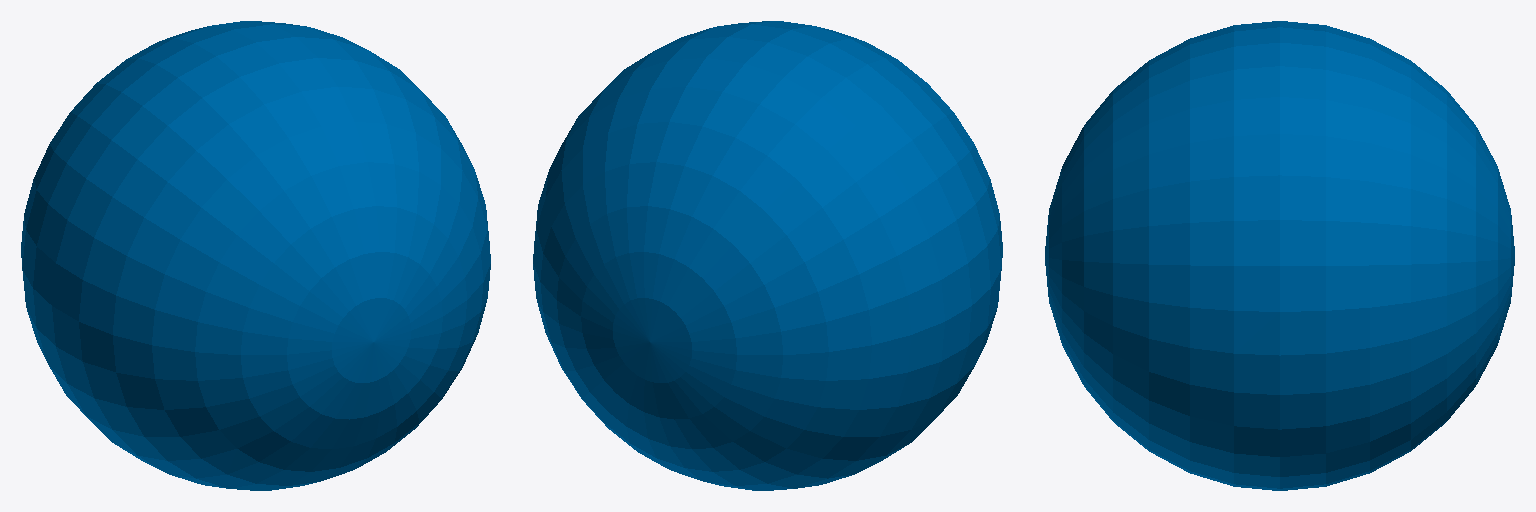
URDF robot description (ur10):
<?xml version="1.0" encoding="utf-8"?>
<robot name="ur10">
	<material name="silver">
		<color rgba="0.73 0.7764 0.7882 1"/>
	</material>
	<material name="black">
		<color rgba="0 0 0 1"/>
	</material>
    <link name="base_link">
        <collision>
            <origin xyz="0 0 0.02" rpy="0 0 0"/>
            <geometry>
                <cylinder radius="0.075" length="0.03"/>
            </geometry>
        </collision>
        <visual>
            <origin xyz="0 0 0" rpy="0 0 0"/>
            <geometry>
                <mesh filename="../meshes/ur10_base.obj" scale="1 1 1"/>
            </geometry>
        </visual>
        <inertial>
            <mass value="200.0"/>
        </inertial>
    </link>
    <link name="shoulder_link">
        <visual>
            <origin xyz="0 0 -.1273" rpy="0 0 0"/>
            <geometry>
                <mesh filename="../meshes/ur10_shoulder.obj" scale="1 1 1"/>
            </geometry>
        </visual>
        <collision>
            <origin xyz="0 0.0 0.0027000046)" rpy="0 0 0"/>
            <geometry>
                <cylinder radius="0.075" length="0.17"/>
            </geometry>
        </collision>
        <collision>
            <origin xyz="0 .0425  0.007000065" rpy="1.57079632679 0 0"/>
            <geometry>
                <cylinder radius="0.075" length="0.085"/>
            </geometry>
        </collision>
        <inertial>
            <mass value="7.1"/>
        </inertial>
    </link>
    <link name="upper_arm_link">
        <visual>
            <origin xyz="-0.0007000065 -0.044941006 0" rpy="0 -1.57079632679 0"/>
            <geometry>
                <mesh filename="../meshes/ur10_upper_arm.obj" scale="1 1 1"/>
            </geometry>
        </visual>
        <collision>
            <origin xyz="-0.0007000065 -0.044941006 0" rpy="1.57079632679 0 0"/>
            <geometry>
                <cylinder radius="0.075" length="0.175"/>
            </geometry>
        </collision>
        <collision>
            <origin xyz="-0.0007000065 -0.044941006 0.306" rpy="0 0 0"/>
            <geometry>
                <cylinder radius="0.06" length="0.612"/>
            </geometry>
        </collision>
        <collision>
            <origin xyz="-0.0007000065 -0.044941006 0.612" rpy="1.57079632679 0 0"/>
            <geometry>
                <cylinder radius="0.06" length="0.136"/>
            </geometry>
        </collision>
        <inertial>
            <mass value="12.7"/>
        </inertial>
    </link>
    <link name="forearm_link">
        <visual>
            <origin xyz="-0.0007000351 -0.0010410404 0" rpy="0 -1.57079632679 0"/>
            <geometry>
                <mesh filename="../meshes/ur10_forearm.obj" scale="1 1 1"/>
            </geometry>
        </visual>
        <collision>
            <origin xyz="-0.0007000351 -0.0041510403 0" rpy="1.57079632679 0 0"/>
            <geometry>
                <cylinder radius="0.06" length="0.126"/>
            </geometry>
        </collision>
        <collision>
            <origin xyz="-0.0007000351 -0.0010410404 0.286" rpy="0 0 0"/>
            <geometry>
                <cylinder radius="0.047" length="0.572"/>
            </geometry>
        </collision>
        <collision>
            <origin xyz="-0.0007000547 0.0017589596 0.572" rpy="1.57079632679 0 0"/>
            <geometry>
                <cylinder radius="0.047" length="0.118"/>
            </geometry>
        </collision>
        <inertial>
            <mass value="4.27"/>
        </inertial>
    </link>
    <link name="wrist_1_link">
        <visual>
            <origin xyz="0.0002999115 0.11495896 -0.0007000637" rpy="-3.14159265359 0 -3.14159265359"/>
            <geometry>
                <mesh filename="../meshes/ur10_wrist_1.obj" scale="1 1 1"/>
            </geometry>
        </visual>
        <collision>
            <origin xyz="0.0002999115 0.08745896 -0.0007000637" rpy="1.57079632679 0 3.14159265359"/>
            <geometry>
                <cylinder radius="0.047" length="0.055"/>
            </geometry>
        </collision>
        <collision>
            <origin xyz="0.0002999115 0.11495896 0.0020999363" rpy="-3.14159265359 0 -3.14159265359"/>
            <geometry>
                <cylinder radius="0.047" length="0.118"/>
            </geometry>
        </collision>
        <inertial>
            <mass value="1.0"/>
        </inertial>
    </link>
    <link name="wrist_2_link">
        <visual>
            <origin xyz="0.0002999115 0.000058994293 0.11529993" rpy="-3.14159265359 0 -3.14159265359"/>
            <geometry>
                <mesh filename="../meshes/ur10_wrist_2.obj" scale="1 1 1"/>
            </geometry>
        </visual>
        <collision>
            <origin xyz="0.0002999115 0.000058994293 0.08829992" rpy="-3.14159265359 0 -3.14159265359"/>
            <geometry>
                <cylinder radius="0.047" length="0.054"/>
            </geometry>
        </collision>
        <collision>
            <origin xyz="0.0002999115 0.0028589943 0.11529993" rpy="1.57079632679 0 3.14159265359"/>
            <geometry>
                <cylinder radius="0.047" length="0.118"/>
            </geometry>
        </collision>
        <inertial>
            <mass value="1.0"/>
        </inertial>
    </link>
    <link name="wrist_3_link">
        <visual>
            <origin xyz="0.0002999115 0.09205898 -0.00040007472" rpy="-3.14159265359 0 -3.14159265359"/>
            <geometry>
                <mesh filename="../meshes/ur10_wrist_3.obj" scale="1 1 1"/>
            </geometry>
        </visual>
        <collision>
            <origin xyz="0.0002999115 0.077058983 -0.00040007472" rpy="1.57079632679 0 -3.14159265359"/>
            <geometry>
                <cylinder radius="0.047" length="0.03"/>
            </geometry>
        </collision>
        <inertial>
            <mass value="0.365"/>
        </inertial>
    </link>
    <joint name="shoulder_pan_joint" type="revolute">
        <origin rpy="0 0 0" xyz="0 0 0.1273"/>
        <axis xyz="0 0 1" />
        <limit upper="6.28318" lower="-6.28318" velocity="2.0944" effort="330" />
        <parent link="base_link" />
        <child link ="shoulder_link" />
    </joint>
    <joint name="shoulder_lift_joint" type="revolute">
        <origin rpy="0.0 1.5707963267948966 0.0" xyz="0.0 0.220941 0.0"/>
        <axis xyz="0 1 0" />
        <limit upper="6.28318" lower="-6.28318" velocity="2.0944" effort="330.0" />
        <parent link ="shoulder_link" />
        <child link="upper_arm_link" />
    </joint>
    <joint name="elbow_joint" type="revolute">
        <origin rpy="0.0 0.0 0.0" xyz="0.0 -0.1719 0.612"/>
        <axis xyz="0 1 0" />
        <limit upper="6.28318" lower="-6.28318" velocity="3.14159" effort="150.0" />
        <parent link ="upper_arm_link" />
        <child link="forearm_link" />
    </joint>
    <joint name="wrist_1_joint" type="revolute">
        <origin rpy="0.0 1.5707963267948966 0.0" xyz="0.0 0.0 0.5723"/>
        <axis xyz="0 1 0" />
        <limit upper="6.28318" lower="-6.28318" velocity="3.14159" effort="56.0" />
        <parent link ="forearm_link" />
        <child link="wrist_1_link" />
    </joint>
    <joint name="wrist_2_joint" type="revolute">
        <origin rpy="0.0 0.0 0.0" xyz="0.0 0.1149 0.0"/>
        <axis xyz="0 0 1"/>
        <limit upper="6.28318" lower="-6.28318" velocity="3.14159" effort="56.0" />
        <parent link ="wrist_1_link" />
        <child link="wrist_2_link" />
    </joint>
    <joint name="wrist_3_joint" type="revolute">
        <origin rpy="0.0 0.0 0.0" xyz="0.0 0.0 0.1157"/>
        <axis xyz="0 1 0" />
        <limit upper="6.28318" lower="-6.28318" velocity="3.14159" effort="56.0" />
        <parent link ="wrist_2_link" />
        <child link="wrist_3_link" />
    </joint>
    <joint name="ee_fixed_joint" type="fixed">
        <parent link="wrist_3_link"/>
        <child link="ee_link"/>
        <origin rpy="-1.57079632679 0 0" xyz="0.0 0.0922 0.0"/>
    </joint>
    <link name="ee_link">
        <collision>
            <geometry>
                <box size="0.01 0.01 0.01"/>
            </geometry>
            <origin rpy="0 0 0" xyz="-0.01 0 0"/>
        </collision>
    </link>
    <joint name="hand_joint" type="fixed">
    	<parent link="ee_link"/>
    	<child link="hand_link"/>
    	<origin rpy="0 -1.57079632679 0" xyz="0.001 0 0"/>
    </joint>
    <link name="hand_link">
    	<collision>
      	<origin rpy="0.00 0.00 0.00" xyz="0.00 0.00 0.00"/>
      	<geometry>
        	<mesh filename="../meshes/rg2_gripper/meshes/collision/RG2_Hand_col.STL"/>
      	</geometry>
    	</collision>
    	<visual>
      	<origin rpy="0.00 0.00 0.00" xyz="0.00 0.00 0.00"/>
      	<geometry>
        	<mesh filename="../meshes/rg2_gripper/meshes/visual/RG2_Hand_vis.STL"/>
      	</geometry>
	<material name="silver"/>
    	</visual>
    	<inertial>
      		<origin rpy="0.00 0.00 0.00" xyz="0.061902 0.000129 -0.000005"/>
      		<mass value="1.684558"/>
      		<inertia ixx="0.000862" ixy="0.000000" ixz="0.000000" iyy="0.002401" iyz="-0.000001" izz="0.002620"/>
    	</inertial>
    </link>
    <joint name="gripper_joint" type="revolute">
    	<parent link="hand_link"/>
    	<child link="l_moment_arm_link"/>
    	<origin rpy="0 0 0" xyz="0.105 0.017 0.010"/>
    	<axis xyz="0 0 1"/>
    	<limit effort="10.6" lower="-1.570796327" upper="1.570796327" velocity="3.14"/>
	<dynamics damping="0.1" friction="0.0" />
        <implicitSpringDamper>True</implicitSpringDamper>
    </joint>
    <link name="l_moment_arm_link">
    	<collision>
        	<origin rpy="0.00 0.00 0.00" xyz="0.00 0.00 0.00"/>
        	<geometry>
         		<mesh filename="../meshes/rg2_gripper/meshes/collision/RG2_LeftMomentArm_col.STL"/>
      		</geometry>
    	</collision>
     	<visual>
        	<origin rpy="0.00 0.00 0.00" xyz="0.00 0.00 0.00"/>
        	<geometry>
          		<mesh filename="../meshes/rg2_gripper/meshes/visual/RG2_LeftMomentArm_vis.STL"/>
        	</geometry>
		<material name="silver"/>
      	</visual>
      	<inertial>
        	<origin rpy="0.00 0.00 0.00" xyz="0.017004 0.006397 -0.010300"/>
        	<mass value="0.160209"/>
        	<inertia ixx="0.000023" ixy="0.000019" ixz="0.000000" iyy="0.000072" iyz="0.000000" izz="0.000083"/>
      		</inertial>
    </link>
    <joint name="l_finger_2_joint" type="revolute">
    	<parent link="l_moment_arm_link"/>
    	<child link="l_finger_link"/>
    	<origin rpy="0 0 0" xyz="0.049 0.026 0.000"/>
    	<axis xyz="0 0 1"/>
    	<limit effort="10.6" lower="-3.14159" upper="3.14159" velocity="3.14"/>
	<mimic joint="gripper_joint" multiplier="-1"/>
        <dynamics damping="0.1" friction="0.0" />
        <implicitSpringDamper>True</implicitSpringDamper>
    </joint>
    <link name="l_finger_link">
    	<collision>
      		<origin rpy="0.00 0.00 0.00" xyz="0.00 0.00 0.00"/>
      		<geometry>
        		<mesh filename="../meshes/rg2_gripper/meshes/collision/RG2_LeftFinger_col.STL"/>
      		</geometry>
    	</collision>
    	<visual>
      		<origin rpy="0.00 0.00 0.00" xyz="0.00 0.00 0.00"/>
      		<geometry>
        		<mesh filename="../meshes/rg2_gripper/meshes/visual/RG2_LeftFinger_vis.STL"/>
      		</geometry>
		<material name="black"/>
    	</visual>
    	<inertial>
      		<origin rpy="0.00 0.00 0.00" xyz="0.024695 -0.010178 -0.010001"/>
      		<mass value="0.081638"/>
      		<inertia ixx="0.000006" ixy="-0.000005" ixz="0.000000" iyy="0.000025" iyz="0.000000" izz="0.000026"/>
    	</inertial>
    </link>
    <joint name="r_finger_1_joint" type="revolute">
    	<parent link="hand_link"/>
    	<child link="r_moment_arm_link"/>
    	<origin rpy="0 0 0" xyz="0.105 -0.017 0.010"/>
    	<axis xyz="0 0 1"/>
    	<limit effort="10.6" lower="-1.570796327" upper="1.570796327" velocity="3.14"/>
 	<mimic joint="gripper_joint" multiplier="-1"/>
        <dynamics damping="0.1" friction="0.0" />
	<implicitSpringDamper>True</implicitSpringDamper>
    </joint>
    <link name="r_moment_arm_link">
    	<collision>
      		<origin rpy="0.00 0.00 0.00" xyz="0.00 0.00 0.00"/>
      		<geometry>
        		<mesh filename="../meshes/rg2_gripper/meshes/collision/RG2_RightMomentArm_col.STL"/>
      		</geometry>
    	</collision>
    	<visual>
      		<origin rpy="0.00 0.00 0.00" xyz="0.00 0.00 0.00"/>
      		<geometry>
        		<mesh filename="../meshes/rg2_gripper/meshes/visual/RG2_RightMomentArm_vis.STL"/>
      		</geometry>
		<material name="silver"/>
    	</visual>
    	<inertial>
      		<origin rpy="0.00 0.00 0.00" xyz="0.017004 -0.006397 -0.010300"/>
      		<mass value="0.160209"/>
      		<inertia ixx="0.000023" ixy="-0.000019" ixz="0.000000" iyy="0.000072" iyz="0.000000" izz="0.000083"/>
    	</inertial>
    </link>
    <joint name="ur10_grip_vis_joint" type="fixed">
     <parent link="ee_link"/>
     <child link="ur_grip_site"/>
     <origin rpy="0 0 0" xyz="0 0 0.1625"/>
    </joint>
    <link name="ur_grip_site">
        <visual>
        <geometry>
            <sphere radius="0.005"/>
        </geometry>
        <material name="Vis"/>
        </visual>
    </link>
    <joint name="r_finger_2_joint" type="revolute">
    	<parent link="r_moment_arm_link"/>
    	<child link="r_finger_link"/>
    	<origin rpy="0 0 0" xyz="0.049 -0.026 0.000"/>
    	<axis xyz="0 0 1"/>
    	<limit effort="10.6" lower="-3.14159" upper="3.14159" velocity="3.14"/>
	<mimic joint="gripper_joint" multiplier="1"/>
        <dynamics damping="0.1" friction="0.0" />
        <implicitSpringDamper>True</implicitSpringDamper>
    </joint>
    <link name="r_finger_link">
    	<collision>
      		<origin rpy="0.00 0.00 0.00" xyz="0.00 0.00 0.00"/>
      		<geometry>
        		<mesh filename="../meshes/rg2_gripper/meshes/collision/RG2_RightFinger_col.STL"/>
      		</geometry>
    	</collision>
    	<visual>
      		<origin rpy="0.00 0.00 0.00" xyz="0.00 0.00 0.00"/>
      		<geometry>
        		<mesh filename="../meshes/rg2_gripper/meshes/visual/RG2_RightFinger_vis.STL"/>
      		</geometry>
		<material name="black"/>
    	</visual>
    	<inertial>
      		<origin rpy="0.00 0.00 0.00" xyz="0.024695 0.010178 -0.010000"/>
      		<mass value="0.081637"/>
      		<inertia ixx="0.000006" ixy="0.000005" ixz="0.000000" iyy="0.000025" iyz="0.000000" izz="0.000026"/>
    	</inertial>
    </link>

  <joint name="ur10_leftfinger_tip_joint" type="fixed">
    <parent link="l_finger_link"/>
    <child link="ur10_leftfinger_tip"/>
    <origin rpy="0 0 0" xyz="0.035 0.01 -0.05"/>
  </joint>
  <link name="ur10_leftfinger_tip">
    <collision>
      <geometry>
        <box size="0.013 0.004 0.013"/>
      </geometry>
    </collision>
  </link>
  <joint name="ur10_rightfinger_tip_joint" type="fixed">
    <parent link="r_finger_link"/>
    <child link="ur10_rightfinger_tip"/>
    <origin rpy="0 0 0" xyz="0.035 0.01 -0.05"/>
  </joint>
  <link name="ur10_rightfinger_tip">
    <collision>
      <geometry>
        <box size="0.013 0.004 0.013"/>
      </geometry>
    </collision>
  </link>
</robot>

--- Facts derived from the render (not from the file) ---
Views: 3 orthographic renders of the robot side by side, from view 1: azimuth 30°, elevation 25°; view 2: azimuth 150°, elevation 25°; view 3: azimuth 270°, elevation 25°.
Robot: ur10 — 16 links, 15 joints (10 revolute, 5 fixed); root link base_link; default pose: all joints at 0.
Visible links, largest first — view 1: ur_grip_site; view 2: ur_grip_site; view 3: ur_grip_site.
Link boxes in pixels (x1,y1,x2,y2): ur_grip_site: [21, 21, 490, 490]; ur_grip_site: [533, 21, 1002, 490]; ur_grip_site: [1045, 21, 1514, 490].
Size in the robot's own frame: 0.01 by 0.01 by 0.01 metres.
0 mesh visuals loaded from 12 distinct referenced files (none loaded); not drawn: 12 (reference not matched to a file when rendering).